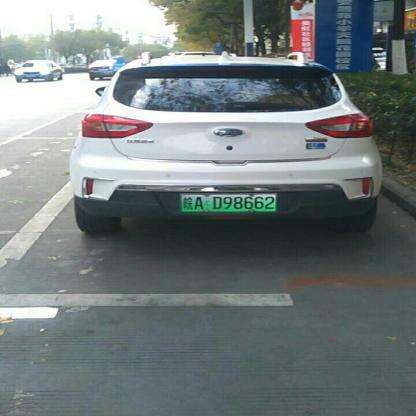lp: (180, 193, 276, 211)
